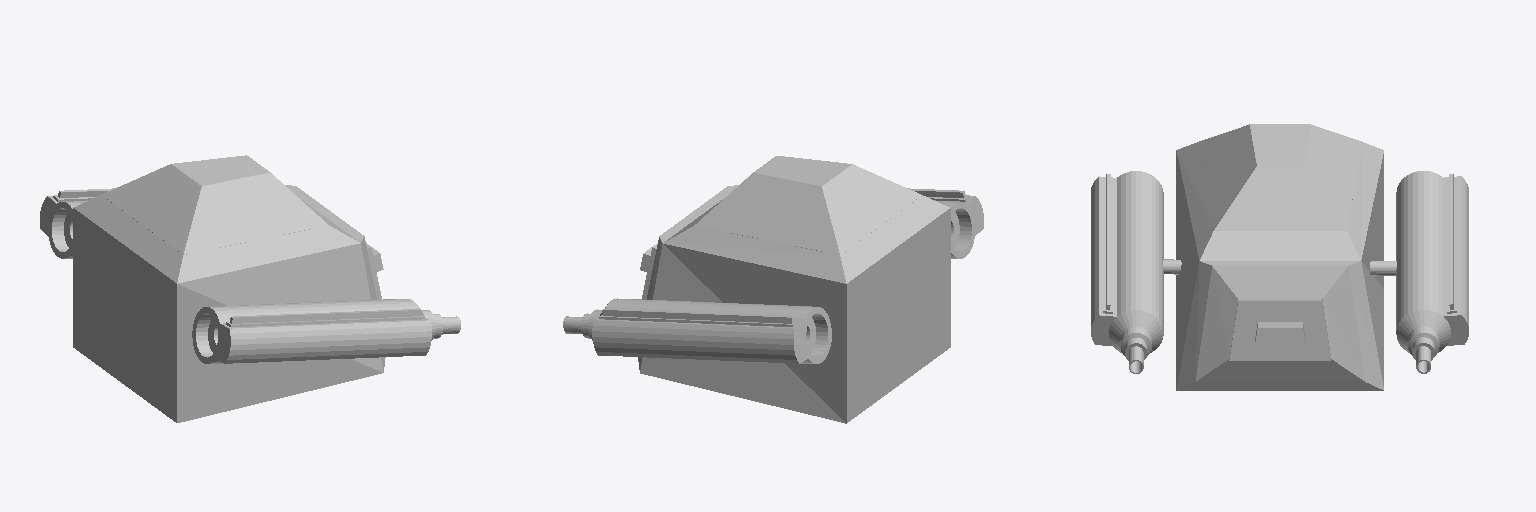
File: BattleshipHead.obj
3 views of the same model, side by side, from view 1: azimuth 30°, elevation 25°; view 2: azimuth 150°, elevation 25°; view 3: azimuth 270°, elevation 25° (orthographic).
Visible parts, largest first — view 1: Cube; view 2: Cube; view 3: Cube.
Boxes of the visible parts, x1,y1,x2,y2 form: Cube: [40, 155, 460, 422]; Cube: [563, 156, 983, 423]; Cube: [1091, 124, 1468, 390].
Size of the model in its own units: 2.41 by 1.72 by 3.03.